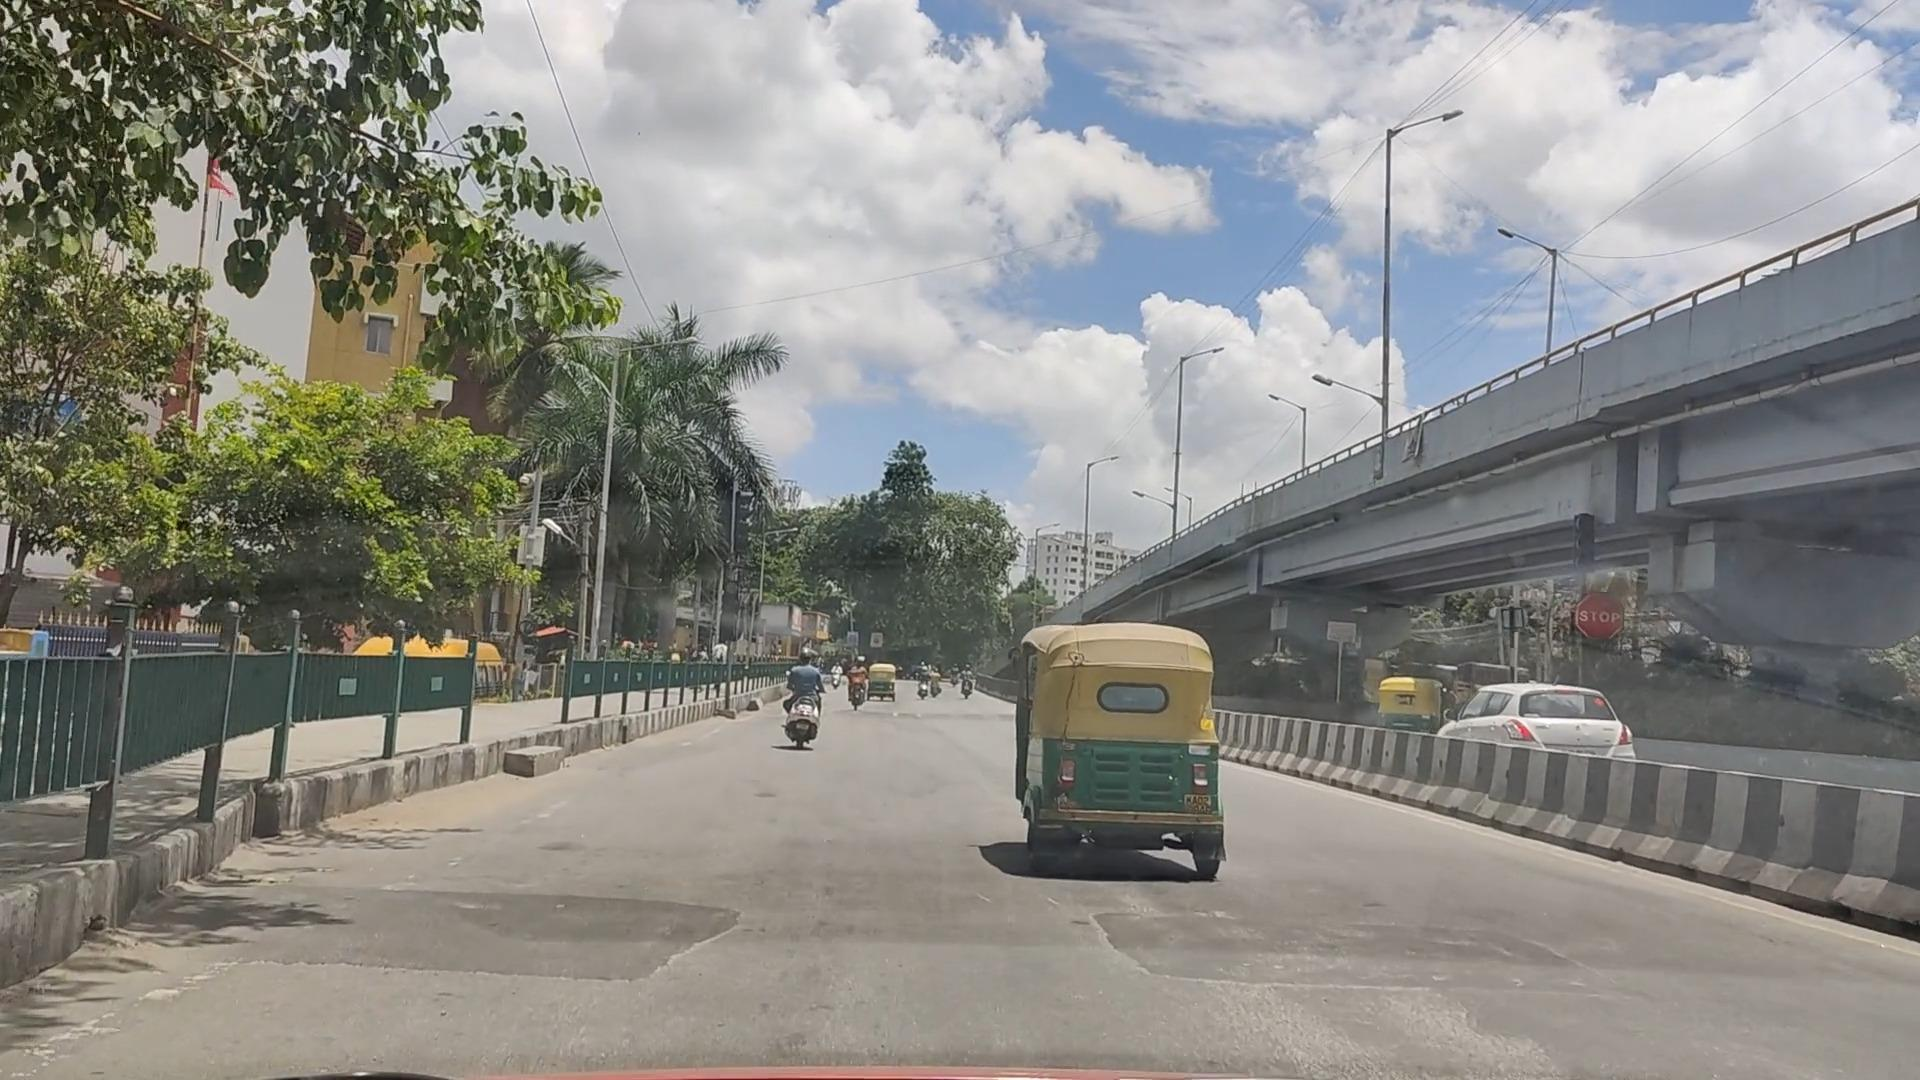LMV: (1013, 612, 1236, 869)
RoadDamages: (1104, 905, 1472, 1067)
